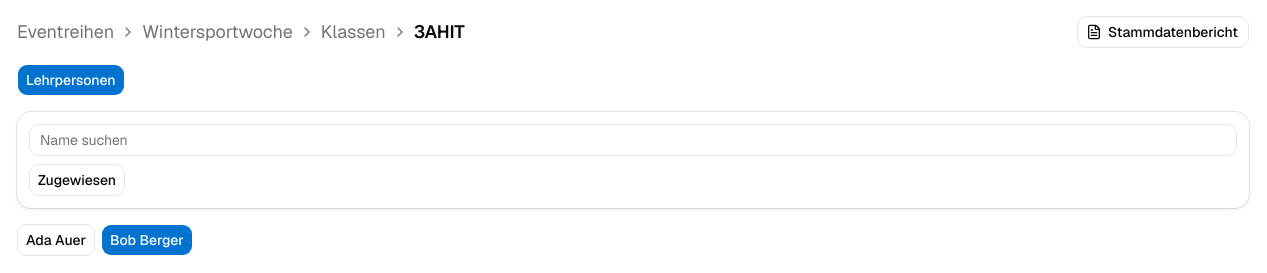
ClassTeachersView — filtering › narrows to the teachers already assigned when Zugewiesen is pressed
The width and height of the screenshot is (1267, 273).
Click the button "Zugewiesen". click: [77, 180]
box: [36,170,118,190]
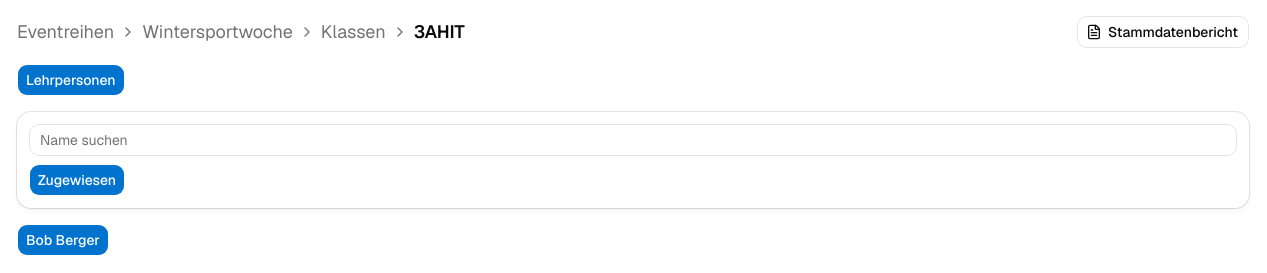
Expected: the button "Bob Berger" is shown, [24,230,102,250]
Expected: the button "Ada Auer" is gone
